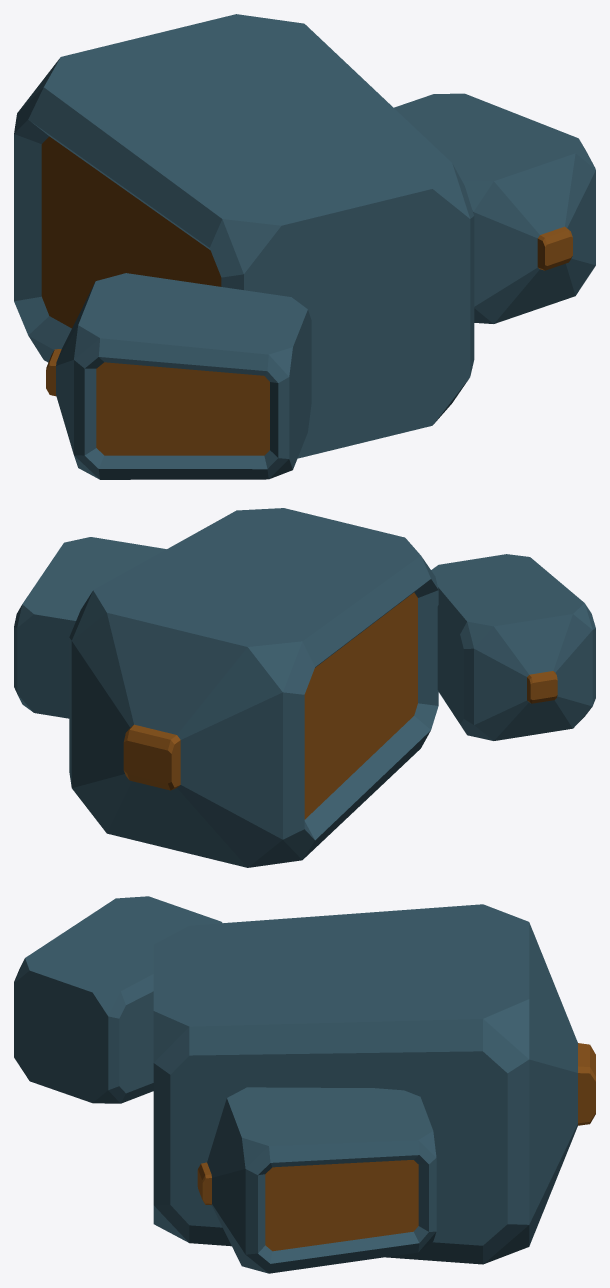
Rendered from boxesCrates.fbx.
3 views of the same model, one above another, from view 1: azimuth 30°, elevation 25°; view 2: azimuth 150°, elevation 25°; view 3: azimuth 270°, elevation 25° (orthographic). The views are drawn at different scales.
Parts seen in each view (by area): view 1: Boxes; view 2: Boxes; view 3: Boxes.
Boxes of the visible parts, x1=… form: Boxes: x1=14, y1=14, x2=595, y2=479; Boxes: x1=14, y1=508, x2=595, y2=867; Boxes: x1=14, y1=896, x2=595, y2=1273.
Size of the model in its own units: 470 by 209 by 444.
